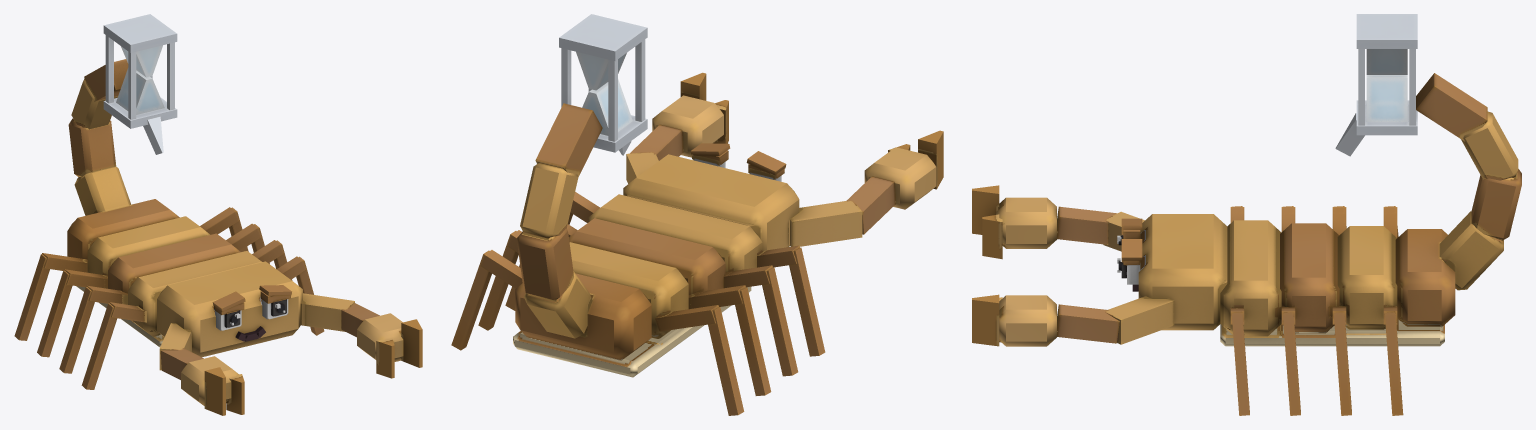
File: ScorpionSablier_Rig.fbx
3 views of the same model, side by side, from view 1: azimuth 30°, elevation 25°; view 2: azimuth 150°, elevation 25°; view 3: azimuth 270°, elevation 25° (orthographic). The views are drawn at different scales.
Visible parts, largest first — view 1: Body, Tail, ArmL, ArmR, Leg3R, Leg2R, Leg1R, Leg0R, Leg0L, Leg3L, Leg2L, Leg1L; view 2: Body, Tail, ArmR, ArmL, Leg3R, Leg2R, Leg1R, Leg0R, Leg3L, Leg2L, Leg0L; view 3: Body, Tail, ArmL, ArmR, Leg3L, Leg2L, Leg1L, Leg0L.
Part boxes in pixels (x1=…): Body: x1=67, y1=199, x2=302, y2=357; Tail: x1=68, y1=14, x2=177, y2=215; ArmL: x1=300, y1=293, x2=422, y2=378; ArmR: x1=159, y1=323, x2=244, y2=415; Leg3R: x1=14, y1=253, x2=87, y2=340; Leg2R: x1=37, y1=269, x2=107, y2=357; Leg1R: x1=59, y1=285, x2=127, y2=373; Leg0R: x1=81, y1=302, x2=146, y2=389; Leg0L: x1=276, y1=256, x2=324, y2=335; Leg3L: x1=200, y1=207, x2=248, y2=251; Leg2L: x1=226, y1=223, x2=269, y2=263; Leg1L: x1=252, y1=240, x2=292, y2=280; Body: x1=513, y1=143, x2=799, y2=377; Tail: x1=516, y1=14, x2=647, y2=338; ArmR: x1=790, y1=130, x2=943, y2=246; ArmL: x1=626, y1=72, x2=728, y2=183; Leg3R: x1=655, y1=305, x2=744, y2=415; Leg2R: x1=688, y1=285, x2=771, y2=395; Leg1R: x1=723, y1=265, x2=798, y2=376; Leg0R: x1=757, y1=245, x2=825, y2=356; Leg3L: x1=451, y1=250, x2=522, y2=350; Leg2L: x1=478, y1=230, x2=521, y2=330; Leg0L: x1=568, y1=192, x2=599, y2=224; Body: x1=1117, y1=214, x2=1455, y2=346; Tail: x1=1335, y1=14, x2=1521, y2=290; ArmL: x1=972, y1=294, x2=1174, y2=346; ArmR: x1=972, y1=185, x2=1144, y2=259; Leg3L: x1=1383, y1=306, x2=1403, y2=415; Leg2L: x1=1332, y1=306, x2=1351, y2=415; Leg1L: x1=1281, y1=306, x2=1300, y2=415; Leg0L: x1=1230, y1=307, x2=1249, y2=415.
Bounding box in the file's own units: 5.23 × 6 × 9.18.
Materials: 1 (1 with a texture image).
